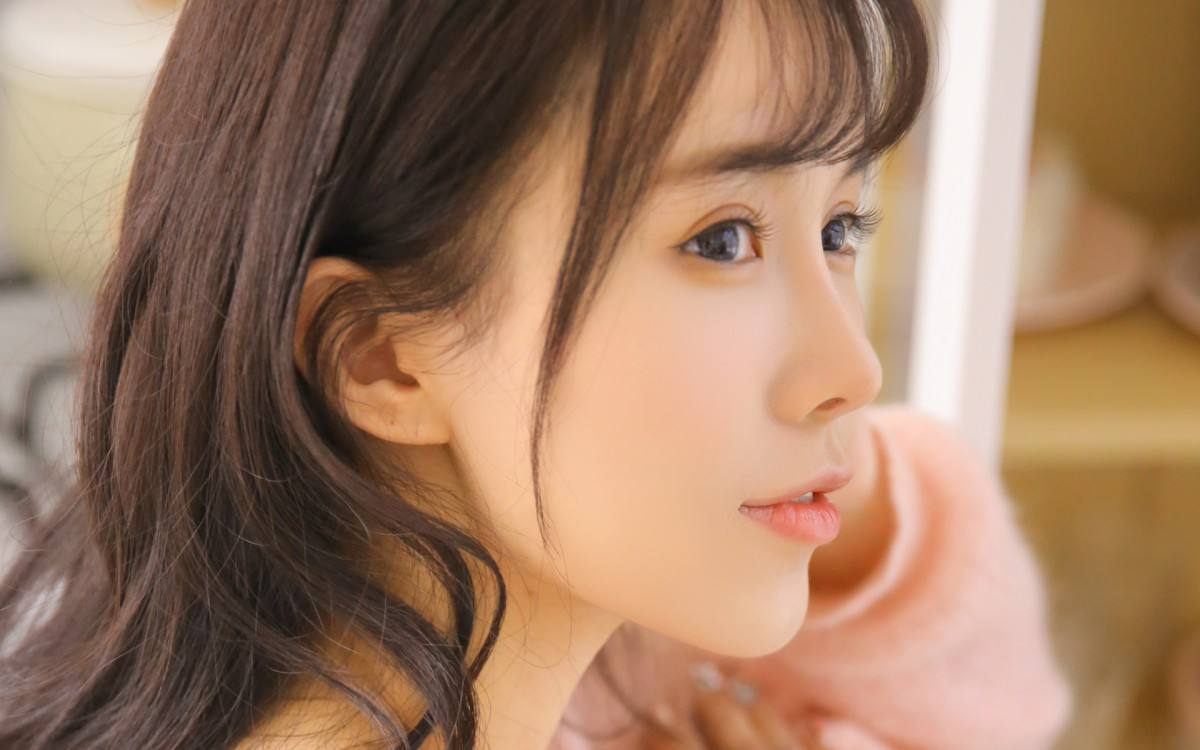person: (109, 12, 948, 720)
